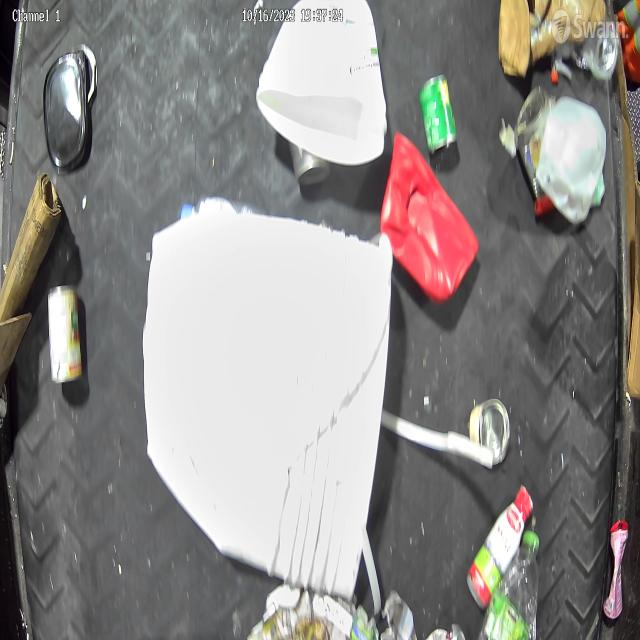can: (47, 282, 84, 388), (418, 74, 458, 158), (468, 397, 511, 469), (288, 147, 331, 188)
milk_jug: (535, 94, 608, 226)
non_white_jug: (378, 130, 479, 308)
plastic_bottle: (478, 528, 541, 640)
